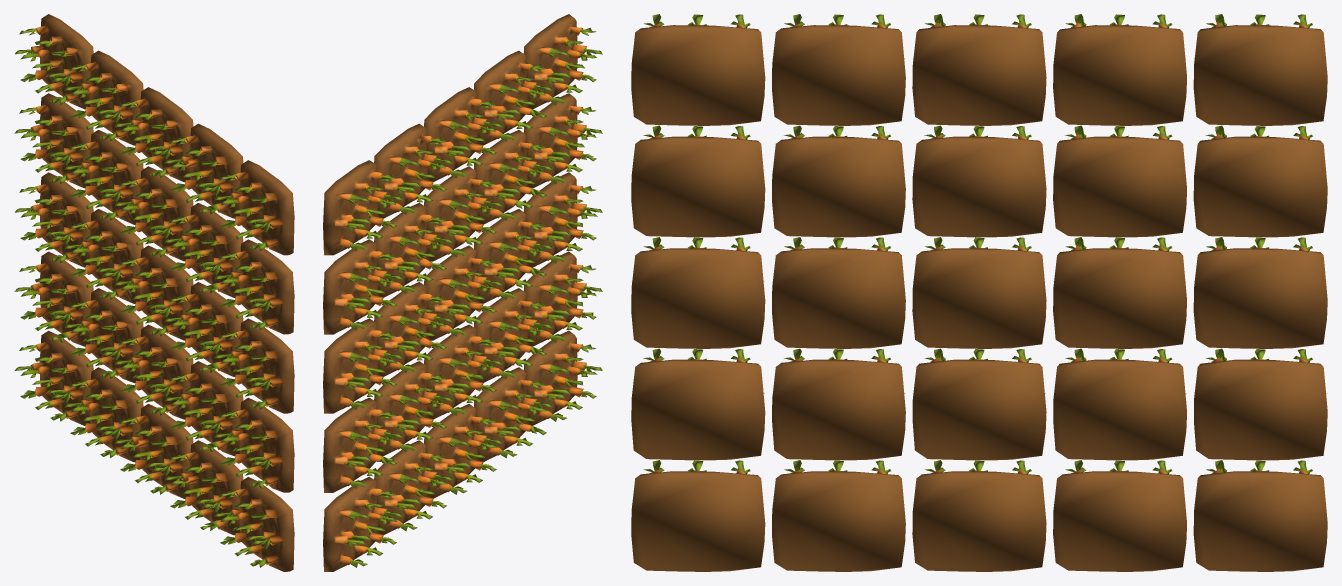
File: CarrotField.obj
The picture shows the model from 3 angles, left to right: view 1: azimuth 30°, elevation 25°; view 2: azimuth 150°, elevation 25°; view 3: azimuth 270°, elevation 25°; orthographic projection. The views are drawn at different scales.
Visible parts, largest first — view 1: Plane; view 2: Plane; view 3: Plane.
Boxes of the visible parts, box(x1,y1,x2,y2) form: Plane: box(14, 14, 294, 571); Plane: box(323, 14, 602, 571); Plane: box(631, 14, 1327, 571).
Size of the model in its own units: 0.9138 by 8.54 by 9.91.
Materials: 1 (1 with a texture image).
